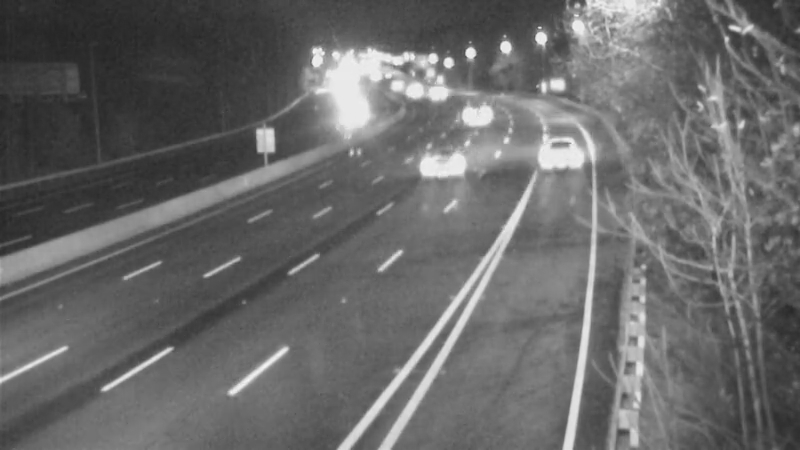vehicle: (512, 117, 592, 197), (404, 120, 484, 200), (372, 60, 422, 110), (387, 64, 437, 114), (412, 67, 462, 117), (450, 89, 500, 139)
